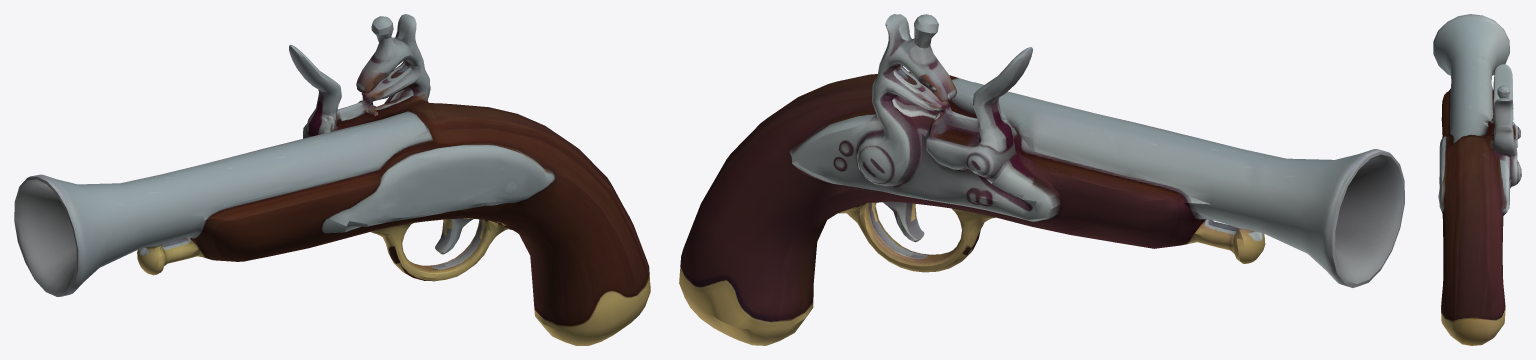
Rendered from Meshy_AI_pistol_0227101532_texture.fbx.
3 views of the same model, side by side, from view 1: azimuth 30°, elevation 25°; view 2: azimuth 150°, elevation 25°; view 3: azimuth 270°, elevation 25° (orthographic). The views are drawn at different scales.
Visible parts, largest first — view 1: Mesh0; view 2: Mesh0; view 3: Mesh0.
Boxes of the visible parts, x1,y1,x2,y2 form: Mesh0: (14,14,650,345); Mesh0: (679,14,1404,345); Mesh0: (1433,14,1521,345).
Bounding box in the file's own units: 191 × 105 × 41.2.
1 material, 1 textured.
